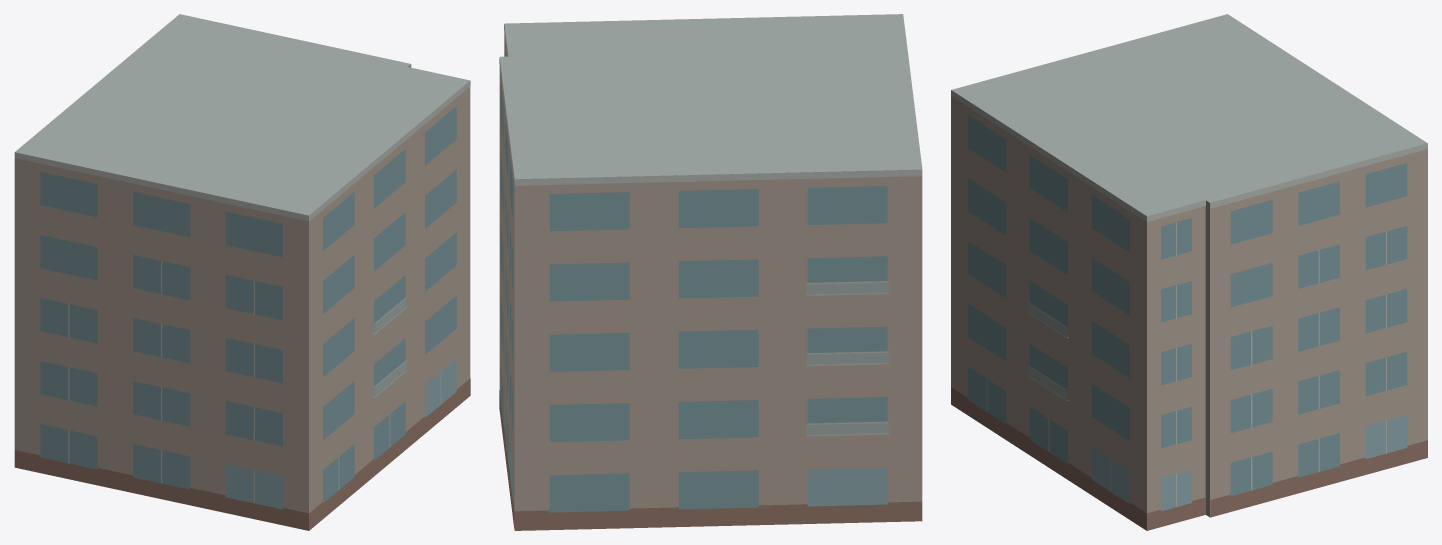
File: survey-upis-32750745.glb
3 renders of one model, left to right at view 1: azimuth 30°, elevation 25°; view 2: azimuth 150°, elevation 25°; view 3: azimuth 270°, elevation 25°, orthographic. The views are drawn at different scales.
Parts seen in each view (by area): view 1: survey-upis-32750745.tmp; view 2: survey-upis-32750745.tmp; view 3: survey-upis-32750745.tmp.
Boxes of the visible parts, left/top/right/bottom form: survey-upis-32750745.tmp: left=14, top=14, right=470, bottom=530; survey-upis-32750745.tmp: left=499, top=14, right=922, bottom=530; survey-upis-32750745.tmp: left=951, top=14, right=1427, bottom=530.
Bounding box in the file's own units: 18.07 × 13.1 × 18.
